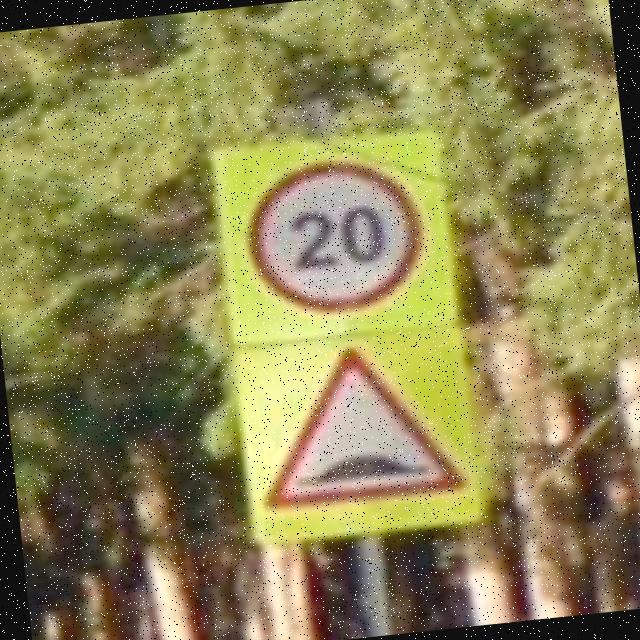Ograniczenie predkosci do 20: (238, 147, 432, 324)
